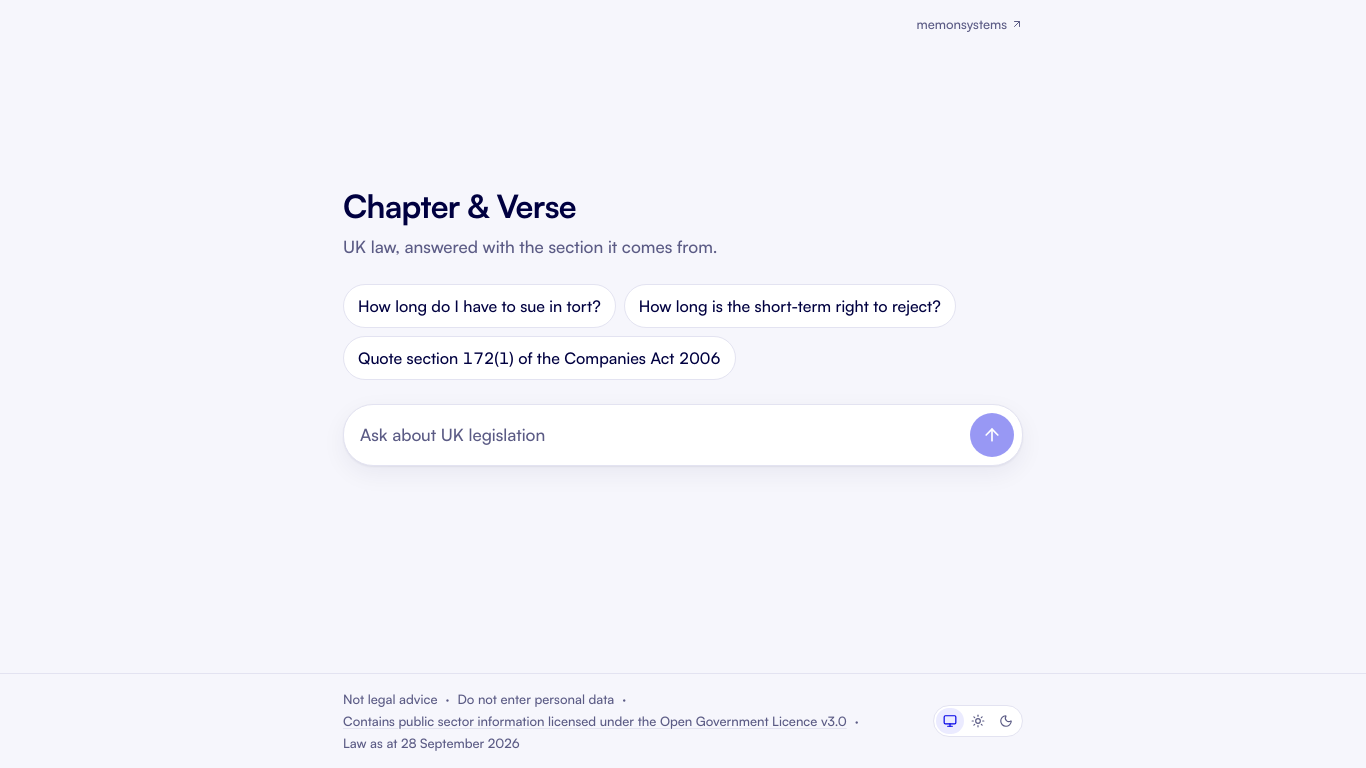
Scenario: Choice, Change, Retry, and Conversation State (S1-S7) › shows top 3 clarify candidates initially and reveals the rest on Show more
This screenshot has width=1366, height=768.
In the text box with placeholder "Ask about UK legislation": (661, 435) [360,413,962,457], type "time limit"
Then press Enter
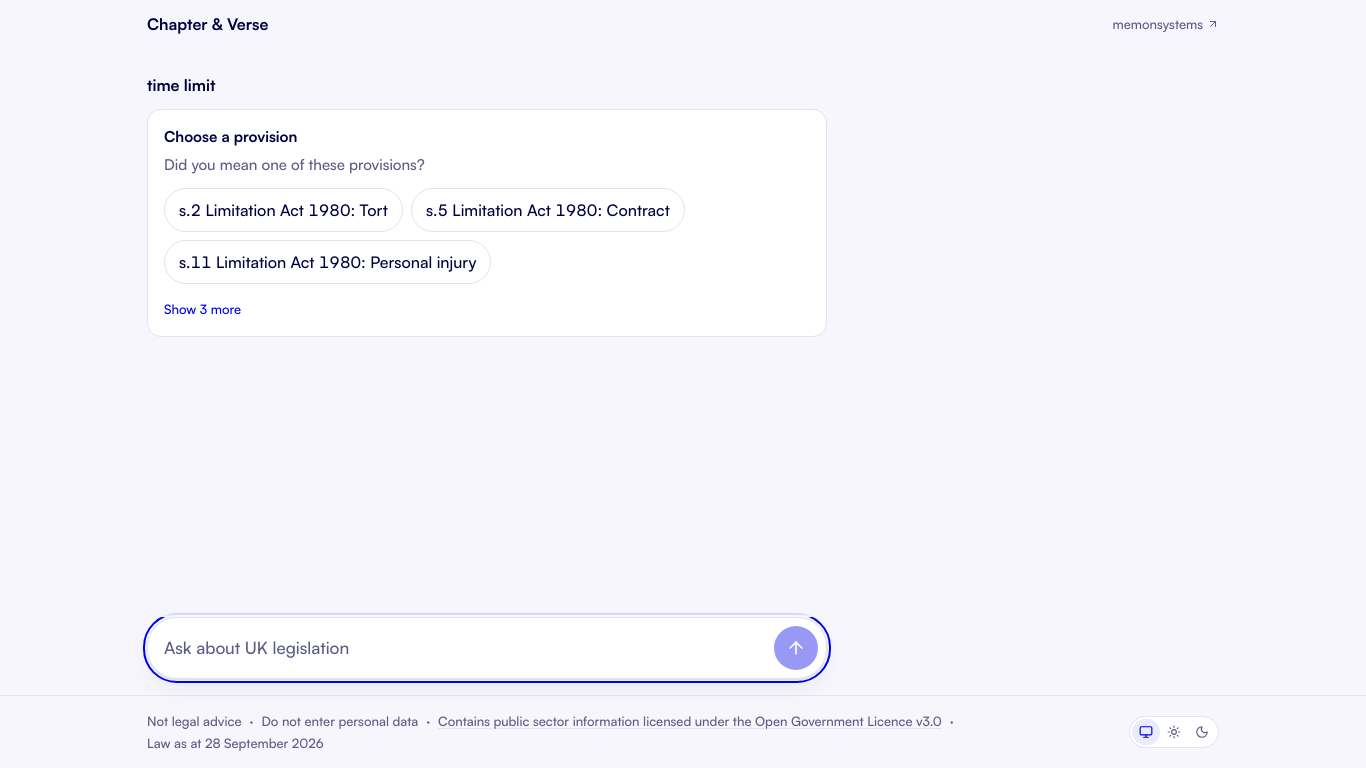
expect the heading "Choose a provision" is shown: met, box [164,127,297,146]
expect the button "s.2 Limitation Act 1980: Tort" is shown: met, box [164,188,403,232]
expect the button "s.11 Limitation Act 1980: Personal injury" is shown: met, box [164,240,491,284]
Click the button "Show 3 more": (203, 309) [164,300,241,318]
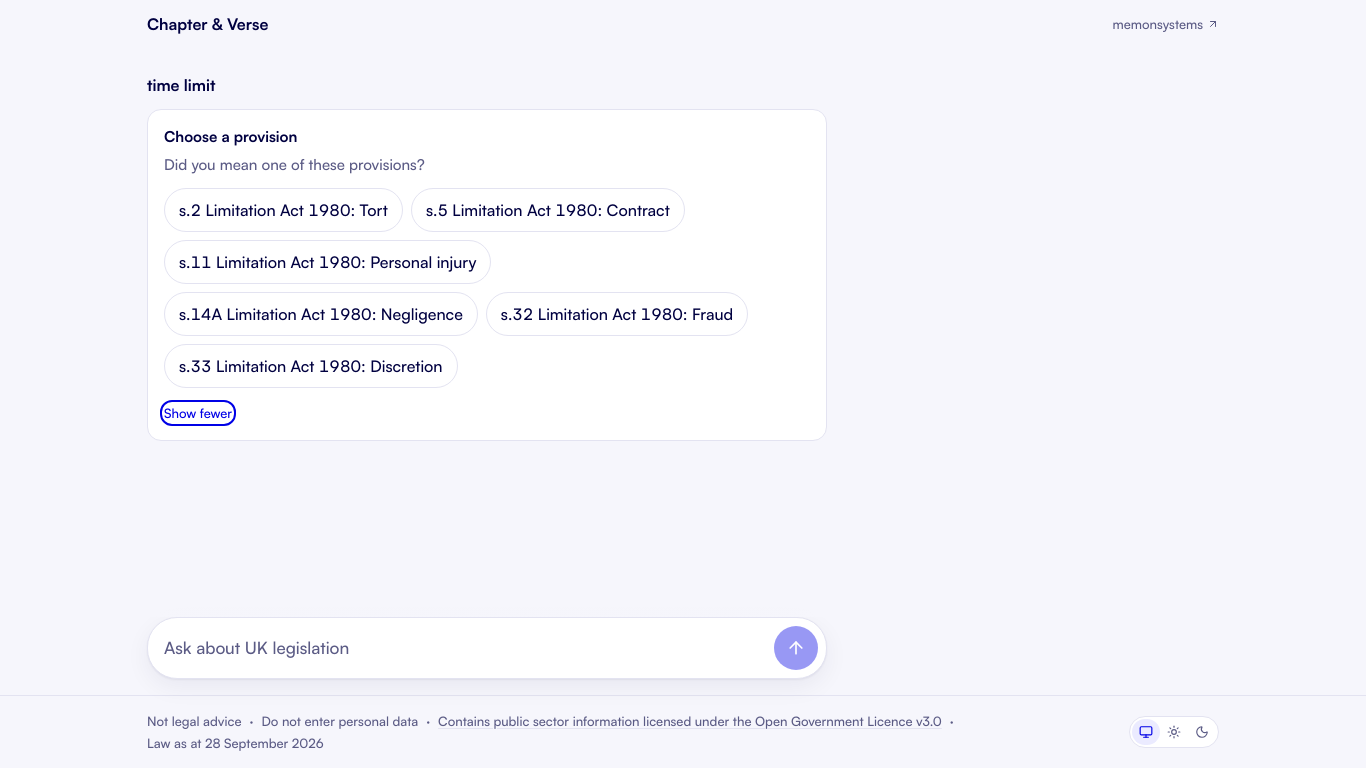
expect the button "s.14A Limitation Act 1980: Negligence" is shown: met, box [164,292,478,336]
expect the button "s.33 Limitation Act 1980: Discretion" is shown: met, box [164,344,458,388]
Click the button "Show fewer": (198, 413) [164,404,232,422]
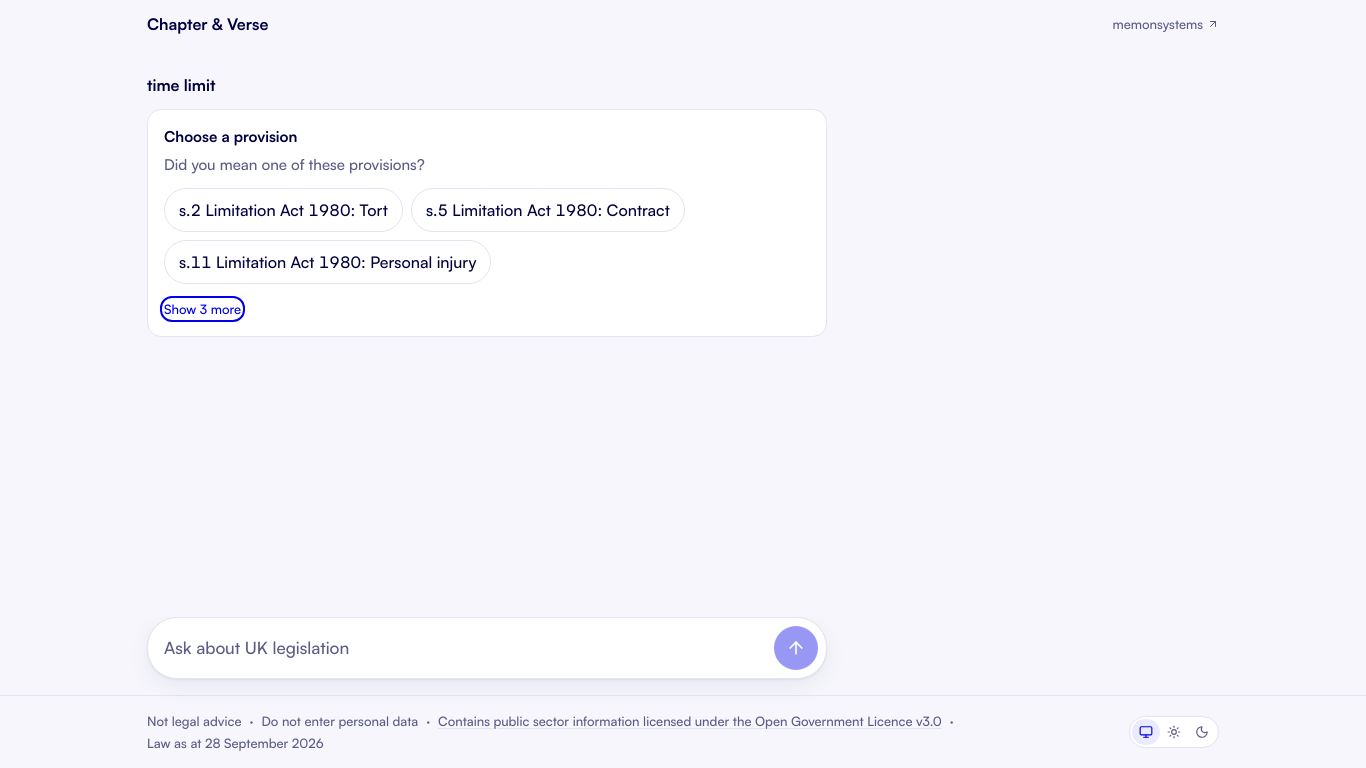
expect the button "s.14A Limitation Act 1980: Negligence" is gone: met
